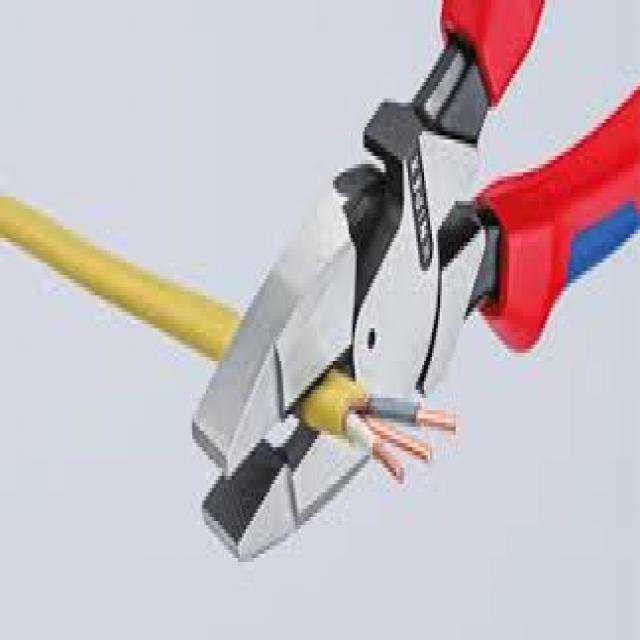pliers: (186, 0, 640, 587)
